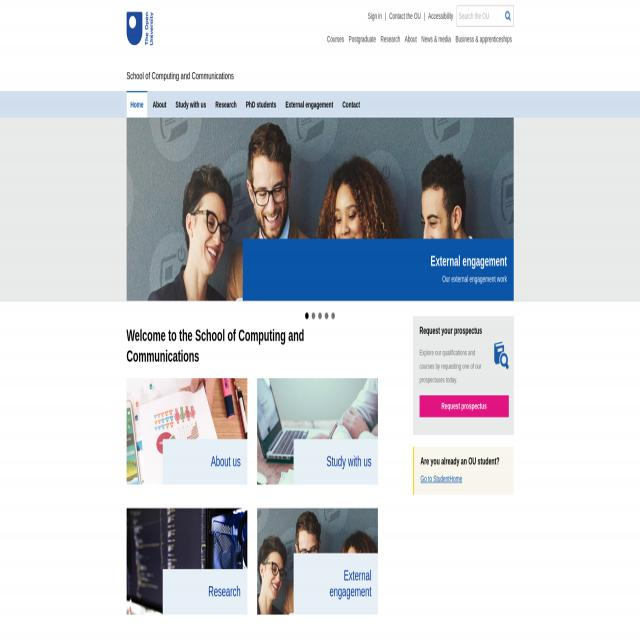button: (126, 119, 513, 303), (256, 508, 377, 616), (127, 509, 247, 616), (127, 378, 247, 484), (258, 378, 378, 484), (120, 7, 162, 59), (419, 396, 508, 417), (282, 92, 338, 118), (172, 92, 210, 118), (242, 92, 280, 118), (212, 92, 240, 118), (338, 92, 364, 118), (126, 91, 148, 118), (149, 92, 170, 118), (494, 342, 508, 369), (504, 9, 512, 23), (310, 310, 317, 321), (317, 310, 324, 321), (330, 310, 337, 321), (323, 310, 330, 321), (304, 310, 310, 321)
field: (457, 7, 514, 26)
